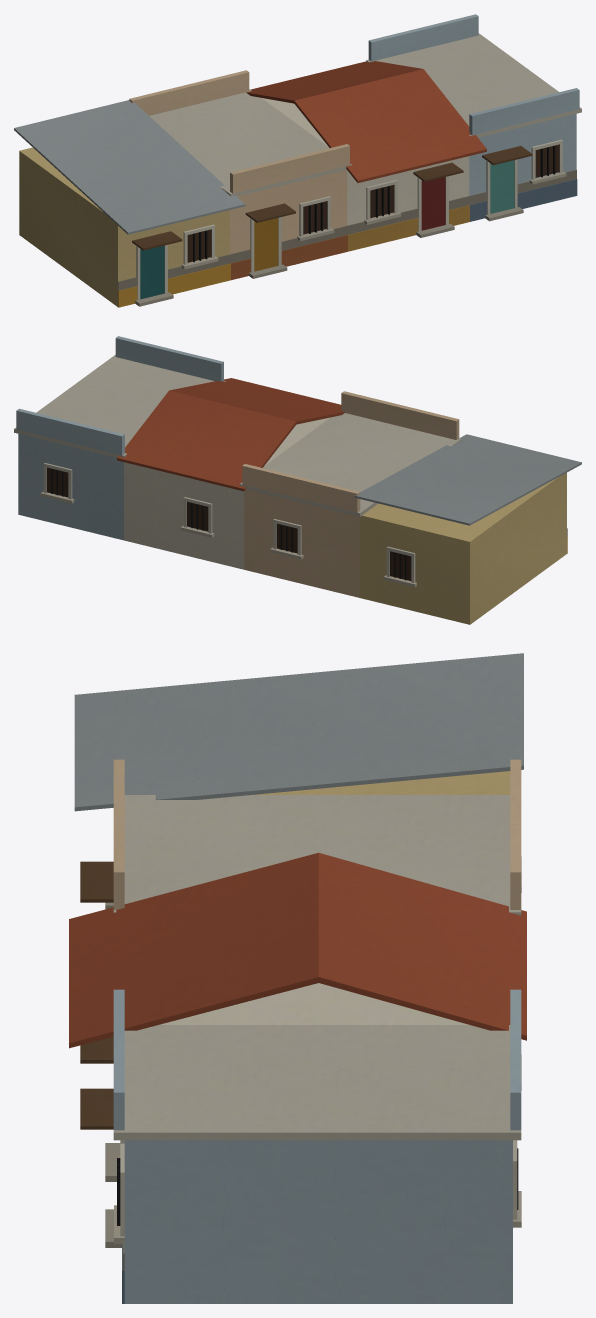
The model's file is abadi_row_b_lod.glb.
The picture shows the model from 3 angles, top to bottom: view 1: azimuth 30°, elevation 25°; view 2: azimuth 150°, elevation 25°; view 3: azimuth 270°, elevation 25°; orthographic projection. The views are drawn at different scales.
Visible parts, largest first — view 1: hb_main; view 2: hb_main; view 3: hb_main.
Part boxes in pixels (box(x1,y1,x2,y2)): hb_main: box(14, 14, 581, 307); hb_main: box(14, 336, 581, 624); hb_main: box(69, 653, 526, 1303).
Size of the model in its own units: 19 by 4.52 by 8.25.
1 material, 1 textured.
